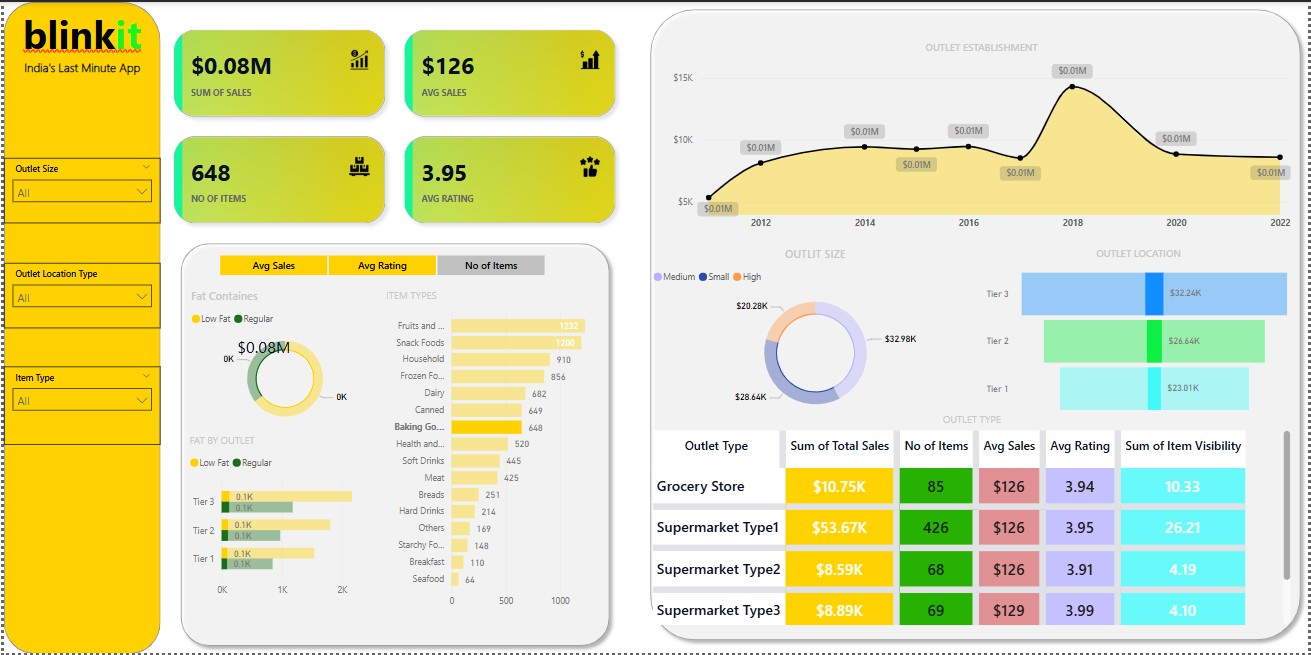

What the dashboard file says about the page in this screenshot:
{"tool":"powerbi","page":{"name":"M","canvas":[1600,800],"ordinal":0},"visuals":[{"type":"shape","box":[0,0,192,800],"z":0},{"type":"textbox","title":"blinkit","box":[0,0,192,80],"z":1000},{"type":"cardVisual","fields":{"Data":["Sum(BlinkIT Grocery Data.Sales)","BlinkIT Grocery Data.Avg Sales","BlinkIT Grocery Data.No of Items","BlinkIT Grocery Data.Avg Rating"]},"box":[192,16,576,272],"z":2000},{"type":"shape","box":[208,288,544,512],"z":3000},{"type":"slicer","fields":{"Values":["Matrics.Matrics"]},"box":[240,304,448,32],"z":4000},{"type":"donutChart","title":" Fat Containes","fields":{"Y":["BlinkIT Grocery Data.No of Items"],"Category":["BlinkIT Grocery Data.Item Fat Content"]},"box":[224,352,240,176],"z":5000},{"type":"card","fields":{"Values":["Sum(BlinkIT Grocery Data.Total Sales)"]},"box":[270.8,385.3,96,80],"z":6000},{"type":"clusteredBarChart","title":" FAT BY OUTLET","fields":{"Y":["BlinkIT Grocery Data.No of Items"],"Category":["BlinkIT Grocery Data.Outlet Location Type"],"Series":["BlinkIT Grocery Data.Item Fat Content"]},"box":[222.8,529.3,240,208],"z":7000},{"type":"barChart","title":" ITEM TYPES","fields":{"Y":["BlinkIT Grocery Data.No of Items"],"Category":["BlinkIT Grocery Data.Item Type"]},"box":[464,352,288,400],"z":8000},{"type":"shape","box":[784,0,816,792],"z":9000},{"type":"lineChart","title":"OUTLET ESTABLISHMENT","fields":{"Category":["BlinkIT Grocery Data.Outlet Establishment Year"],"Y":["Sum(BlinkIT Grocery Data.Total Sales)"]},"box":[816,48,768,240],"z":10000},{"type":"donutChart","title":" OUTLIT SIZE ","fields":{"Y":["Sum(BlinkIT Grocery Data.Total Sales)"],"Category":["BlinkIT Grocery Data.Outlet Size"]},"box":[792,300,408,216],"z":11000},{"type":"funnel","title":" OUTLET LOCATION","fields":{"Category":["BlinkIT Grocery Data.Outlet Location Type"],"Y":["Sum(BlinkIT Grocery Data.Total Sales)"]},"box":[1200,300,384,216],"z":12000},{"type":"pivotTable","title":"OUTLET TYPE","fields":{"Rows":["BlinkIT Grocery Data.Outlet Type"],"Values":["Sum(BlinkIT Grocery Data.Total Sales)","BlinkIT Grocery Data.No of Items","BlinkIT Grocery Data.Avg Sales","BlinkIT Grocery Data.Avg Rating","Sum(BlinkIT Grocery Data.Item Visibility)"]},"box":[792,504,792,264],"z":13000},{"type":"slicer","fields":{"Values":["BlinkIT Grocery Data.Outlet Location Type"]},"box":[0,320,192,80],"z":14000},{"type":"slicer","fields":{"Values":["BlinkIT Grocery Data.Outlet Size"]},"box":[0,192,192,80],"z":15000},{"type":"slicer","fields":{"Values":["BlinkIT Grocery Data.Item Type"]},"box":[0,448,192,96],"z":16000},{"type":"textbox","title":"blinkit","box":[0,64,192,48],"z":17000}]}

Visuals, with their boxes in screenshot pixels (x1, y1, x2, y2), scaled from the page's 1600x800 canvas onto the 1311x655 screenshot:
shape: crop(0, 0, 157, 654)
"blinkit" textbox: crop(0, 0, 157, 66)
cardVisual - Sum(BlinkIT Grocery Data.Sales) x BlinkIT Grocery Data.Avg Sales: crop(157, 13, 629, 236)
shape: crop(170, 236, 616, 654)
slicer - Matrics.Matrics: crop(197, 249, 564, 275)
" Fat Containes" donutChart: crop(184, 288, 380, 432)
card - Sum(BlinkIT Grocery Data.Total Sales): crop(222, 315, 301, 381)
" FAT BY OUTLET" clusteredBarChart: crop(183, 433, 379, 604)
" ITEM TYPES" barChart: crop(380, 288, 616, 616)
shape: crop(642, 0, 1310, 648)
"OUTLET ESTABLISHMENT" lineChart: crop(669, 39, 1298, 236)
" OUTLIT SIZE " donutChart: crop(649, 246, 983, 422)
" OUTLET LOCATION" funnel: crop(983, 246, 1298, 422)
"OUTLET TYPE" pivotTable: crop(649, 413, 1298, 629)
slicer - BlinkIT Grocery Data.Outlet Location Type: crop(0, 262, 157, 328)
slicer - BlinkIT Grocery Data.Outlet Size: crop(0, 157, 157, 223)
slicer - BlinkIT Grocery Data.Item Type: crop(0, 367, 157, 445)
"blinkit" textbox: crop(0, 52, 157, 92)
